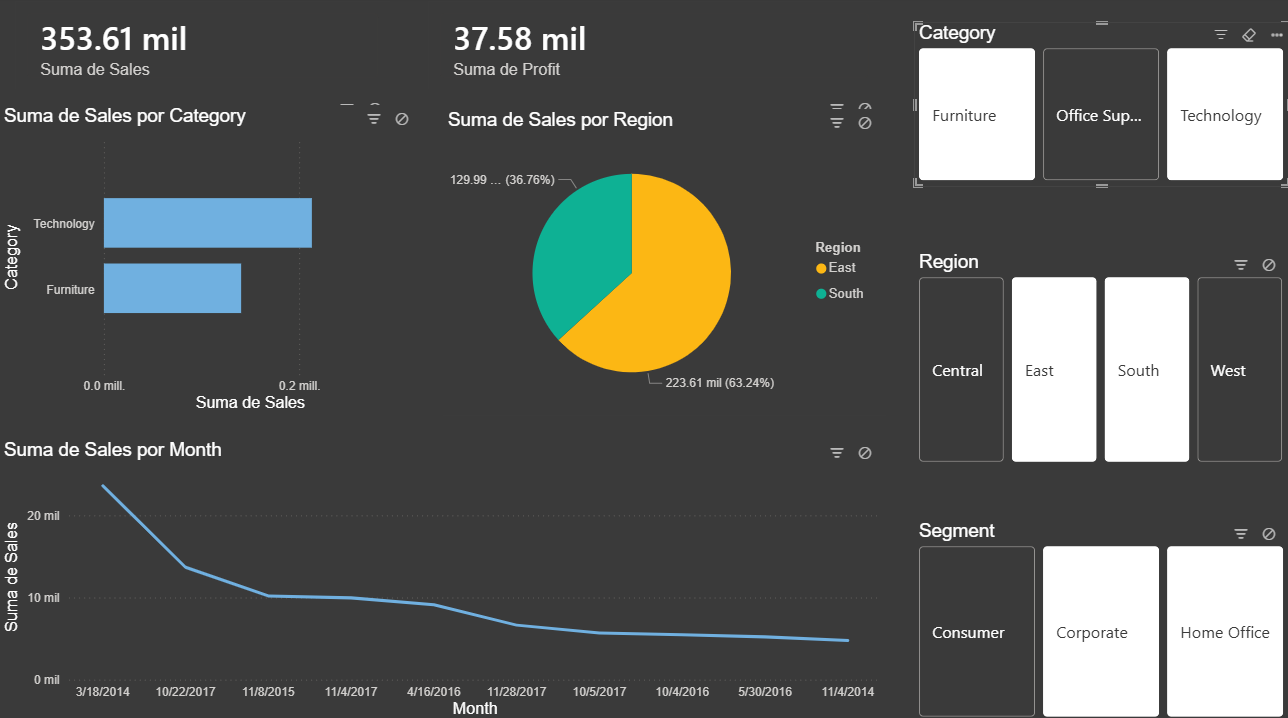

Layout of this report page (visuals, bound fields, positions):
{"tool":"powerbi","page":{"name":"Página 1","canvas":[1280,720],"ordinal":0},"visuals":[{"type":"cardVisual","fields":{"Data":["Sum(Sample - Superstore.Sales)"]},"box":[10.9,0,382.7,98.2],"z":0},{"type":"cardVisual","fields":{"Data":["Sum(Sample - Superstore.Profit)"]},"box":[420.4,0,459.1,98.2],"z":1000},{"type":"clusteredBarChart","fields":{"Category":["Sample - Superstore.Category"],"Y":["Sum(Sample - Superstore.Sales)"]},"box":[0,108.1,420.4,308.4],"z":2000},{"type":"pieChart","fields":{"Category":["Sample - Superstore.Region"],"Y":["Sum(Sample - Superstore.Sales)"]},"box":[440.2,112,439.2,304.4],"z":3000},{"type":"lineChart","fields":{"Category":["Sample - Superstore.Month"],"Y":["Sum(Sample - Superstore.Sales)"]},"box":[0,439.2,879.4,280.6],"z":4000},{"type":"advancedSlicerVisual","fields":{"Values":["Sample - Superstore.Region"]},"box":[907.2,252.8,372.8,214.2],"z":4001},{"type":"advancedSlicerVisual","fields":{"Values":["Sample - Superstore.Category"]},"box":[907,26.1,373,162.9],"z":4002},{"type":"advancedSlicerVisual","fields":{"Values":["Sample - Superstore.Segment"]},"box":[907,519.8,373,200.1],"z":4003}]}

Visuals, with their boxes in screenshot pixels (x1, y1, x2, y2), scaled from the page's 1280x720 canvas onto the 1288x718 screenshot:
cardVisual - Sum(Sample - Superstore.Sales): {"left": 11, "top": 0, "right": 396, "bottom": 98}
cardVisual - Sum(Sample - Superstore.Profit): {"left": 423, "top": 0, "right": 885, "bottom": 98}
clusteredBarChart - Sample - Superstore.Category x Sum(Sample - Superstore.Sales): {"left": 0, "top": 108, "right": 423, "bottom": 415}
pieChart - Sample - Superstore.Region x Sum(Sample - Superstore.Sales): {"left": 443, "top": 112, "right": 885, "bottom": 415}
lineChart - Sample - Superstore.Month x Sum(Sample - Superstore.Sales): {"left": 0, "top": 438, "right": 885, "bottom": 717}
advancedSlicerVisual - Sample - Superstore.Region: {"left": 913, "top": 252, "right": 1287, "bottom": 466}
advancedSlicerVisual - Sample - Superstore.Category: {"left": 913, "top": 26, "right": 1287, "bottom": 188}
advancedSlicerVisual - Sample - Superstore.Segment: {"left": 913, "top": 518, "right": 1287, "bottom": 717}
